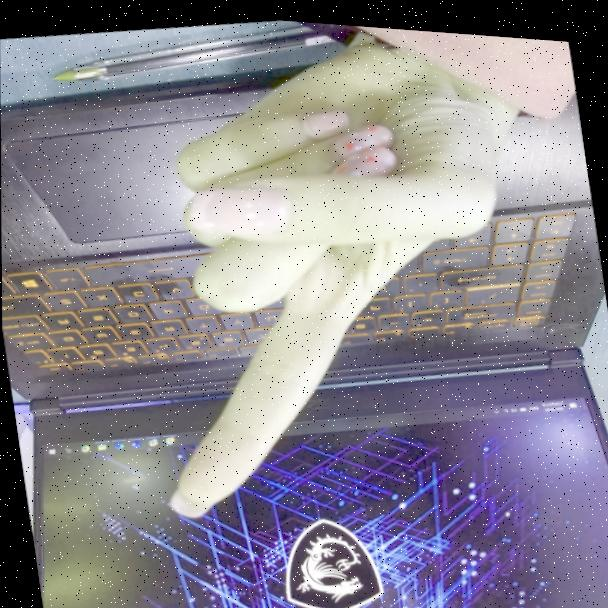one: (91, 17, 570, 545)
